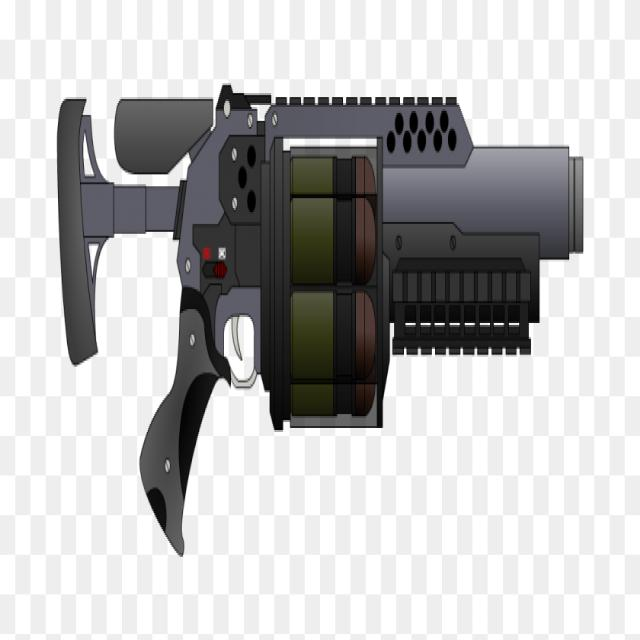bazooka: (40, 60, 599, 582)
